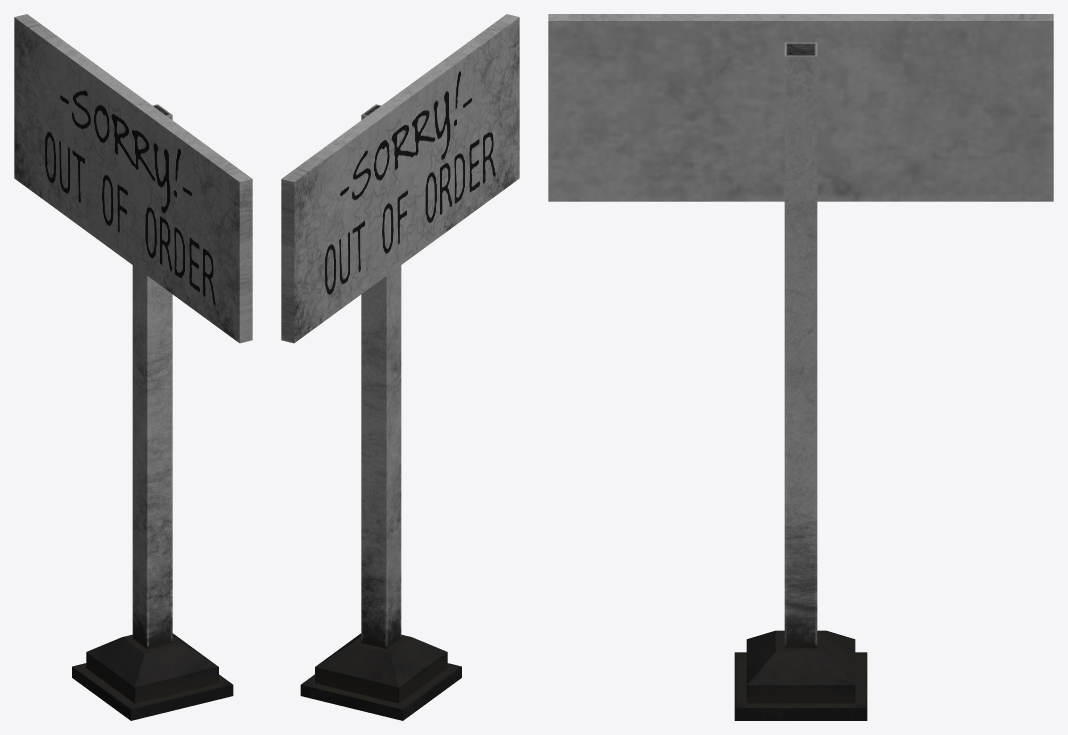
Rendered from ENV_MOD_Foxy_Sign_mo.fbx.
The picture shows the model from 3 angles, left to right: view 1: azimuth 30°, elevation 25°; view 2: azimuth 150°, elevation 25°; view 3: azimuth 270°, elevation 25°; orthographic projection. The views are drawn at different scales.
Visible parts, largest first — view 1: ENV_MOD_Foxy_Sign.mo; view 2: ENV_MOD_Foxy_Sign.mo; view 3: ENV_MOD_Foxy_Sign.mo.
Part boxes in pixels (left/top/right/bottom): ENV_MOD_Foxy_Sign.mo: left=14, top=14, right=252, bottom=720; ENV_MOD_Foxy_Sign.mo: left=281, top=14, right=519, bottom=720; ENV_MOD_Foxy_Sign.mo: left=548, top=14, right=1053, bottom=720.
Size of the model in its own units: 17.18 by 95.18 by 65.56.
